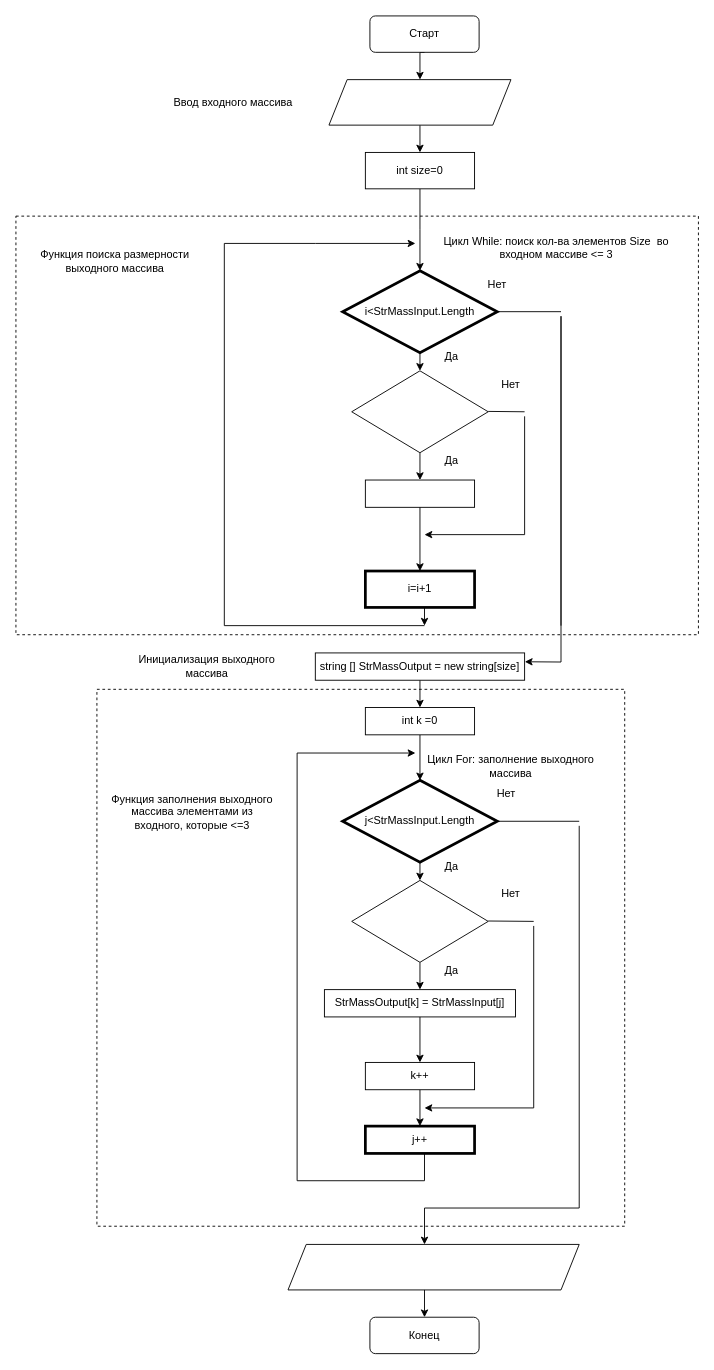
This 714x1370 diagram has some shape labels left out. The centre of each missing label's shape, as x and y in pixels:
size++: point (419, 493)
String [] StrMassInput: point (419, 102)
StrMassInput[i] <= 3: point (419, 411)
StrMassInput[j] <= 3: point (419, 921)
Вывод на экран входного массива и выходного: point (433, 1267)
